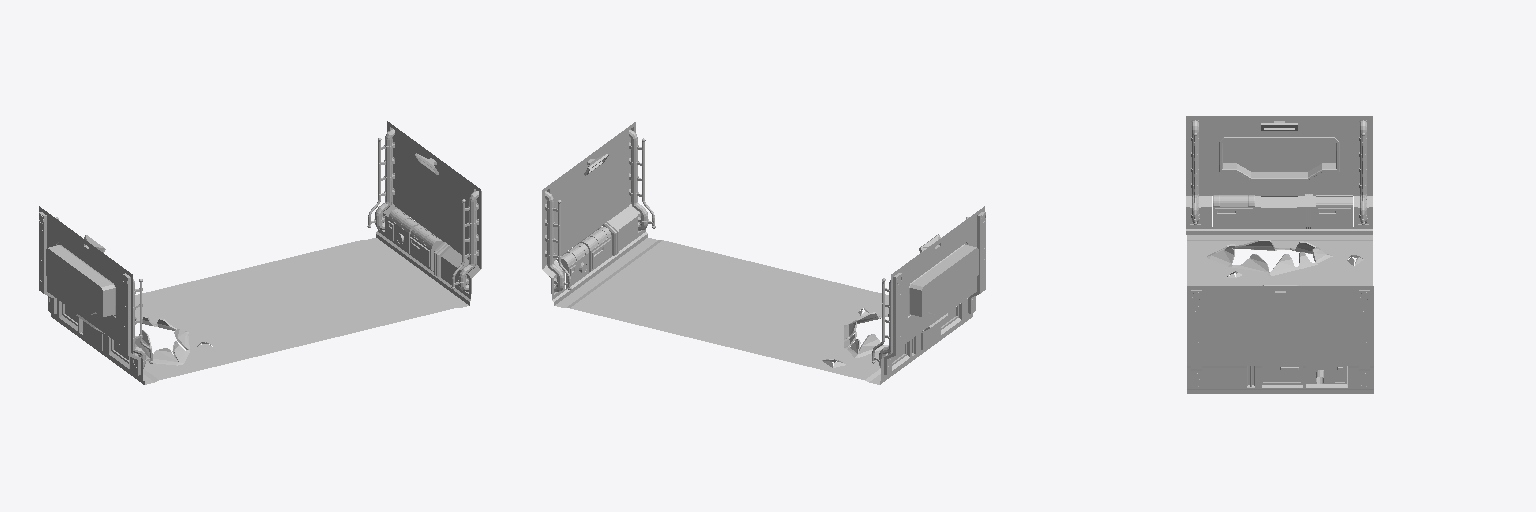
3 views of the same model, side by side, from view 1: azimuth 30°, elevation 25°; view 2: azimuth 150°, elevation 25°; view 3: azimuth 270°, elevation 25° (orthographic).
Visible parts, largest first — view 1: Segment_2 Components Full_Templates Templates; view 2: Segment_2 Components Full_Templates Templates; view 3: Segment_2 Components Full_Templates Templates.
Boxes of the visible parts, box(x1,y1,x2,y2) form: Segment_2 Components Full_Templates Templates: box(39, 121, 481, 384); Segment_2 Components Full_Templates Templates: box(542, 122, 985, 384); Segment_2 Components Full_Templates Templates: box(1186, 116, 1373, 393).
Bounding box in the file's own units: 40.27 × 12.06 × 18.1.